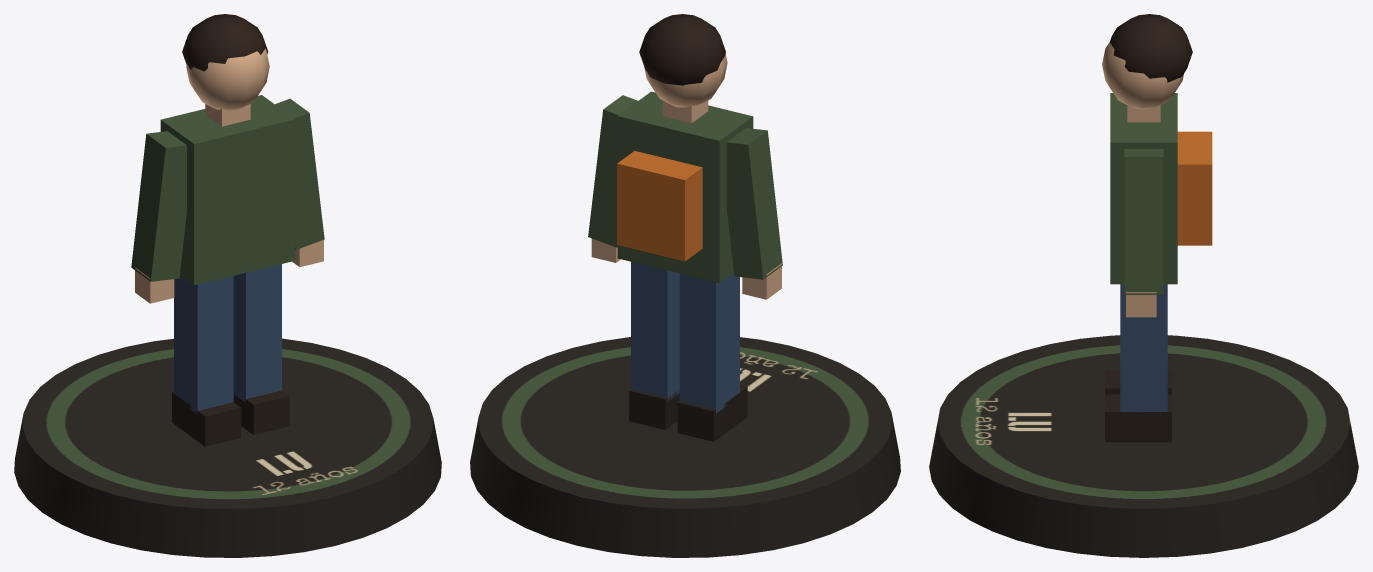
3 views of the same model, side by side, from view 1: azimuth 30°, elevation 25°; view 2: azimuth 150°, elevation 25°; view 3: azimuth 270°, elevation 25° (orthographic).
Visible parts, largest first — view 1: lu; view 2: lu; view 3: lu.
Part boxes in pixels (box(x1,y1,x2,y2)): lu: box(14, 14, 441, 557); lu: box(470, 14, 900, 557); lu: box(929, 14, 1358, 557).
Size of the model in its own units: 1.2 by 1.38 by 1.2.
Materials: 1 (1 with a texture image).
